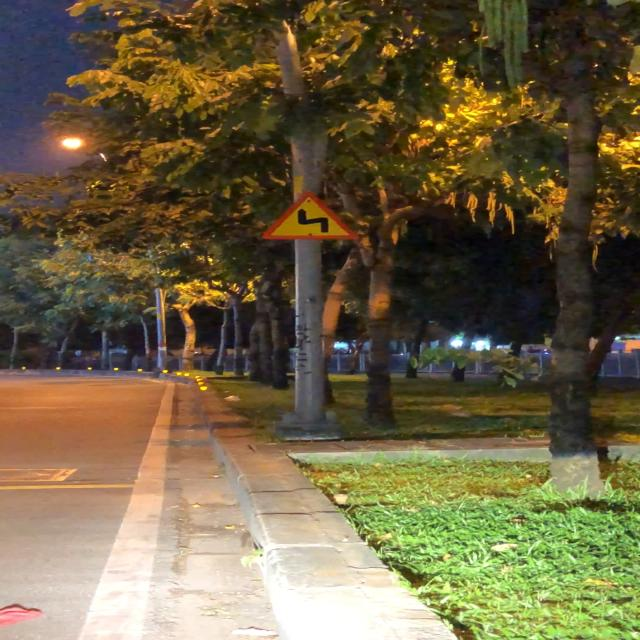Bien bao nhieu cho ngoat nguy hiem lien tiep: (247, 187, 366, 243)
